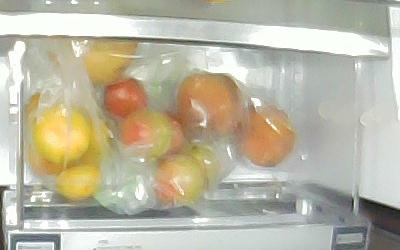peach_vinyl: (176, 73, 242, 140), (234, 104, 294, 167)
pear_vinyl: (49, 38, 140, 84)
tangerine_vinyl: (36, 106, 91, 162), (55, 163, 100, 202), (78, 115, 108, 166), (26, 147, 71, 175), (26, 92, 41, 128)
tomato_vinyl: (152, 153, 204, 208), (120, 109, 171, 161), (178, 145, 219, 189), (106, 77, 148, 117), (161, 109, 184, 158)
